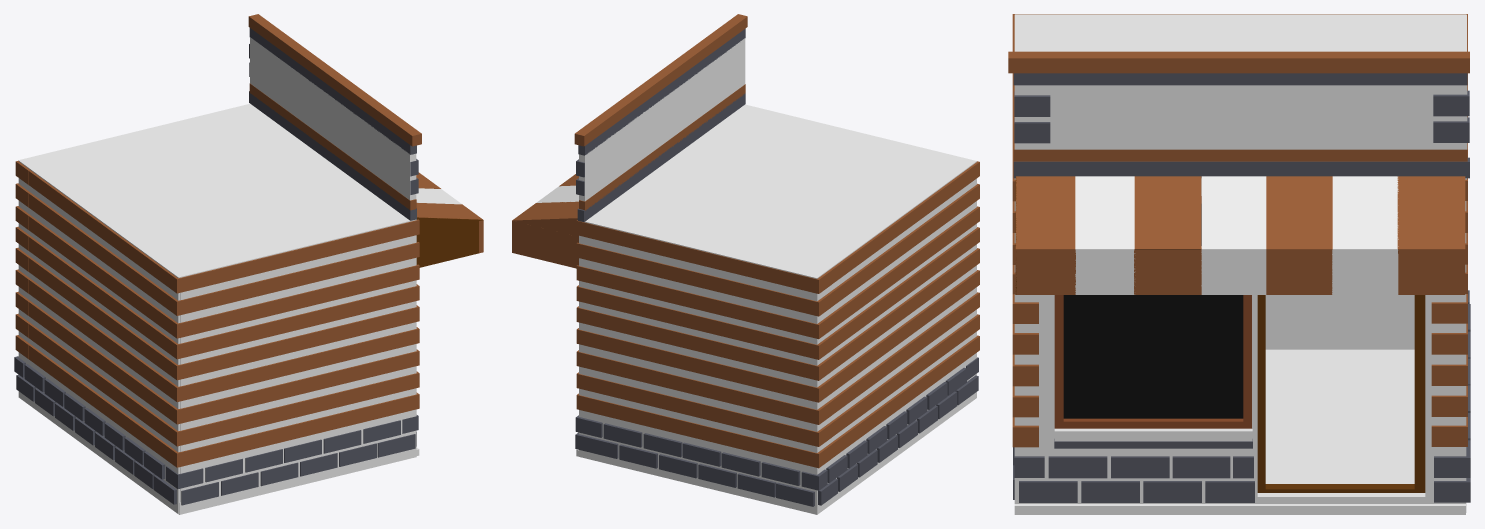
Rendered from pho-tiem-gau.glb.
The picture shows the model from 3 angles, left to right: view 1: azimuth 30°, elevation 25°; view 2: azimuth 150°, elevation 25°; view 3: azimuth 270°, elevation 25°; orthographic projection. The views are drawn at different scales.
Visible parts, largest first — view 1: pho-tiem-gau; view 2: pho-tiem-gau; view 3: pho-tiem-gau.
Part boxes in pixels (box(x1,y1,x2,y2)): pho-tiem-gau: box(14, 14, 483, 514); pho-tiem-gau: box(512, 14, 979, 514); pho-tiem-gau: box(1008, 14, 1470, 514).
Bounding box in the file's own units: 15.78 × 15.85 × 14.51.
